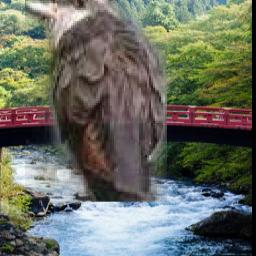Cuckoo: (25, 0, 167, 203)
